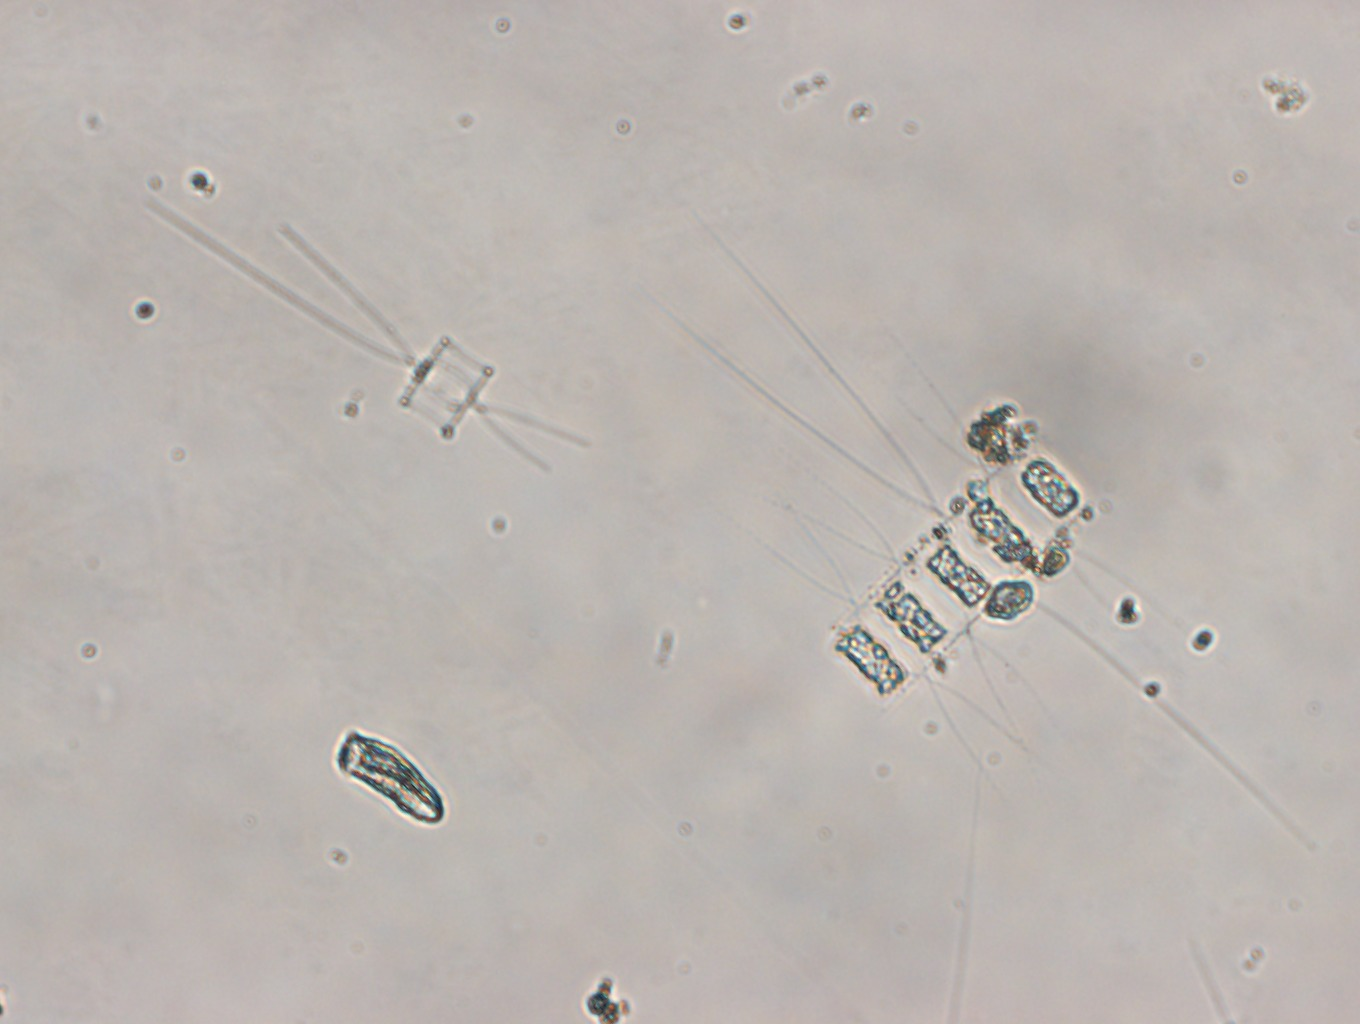chaetoceros: (640, 214, 1319, 858), (132, 191, 595, 472)
